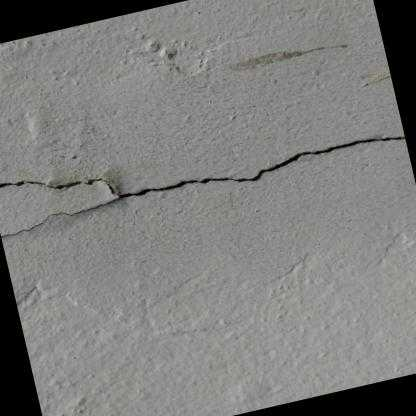crack: (0, 132, 405, 239)
